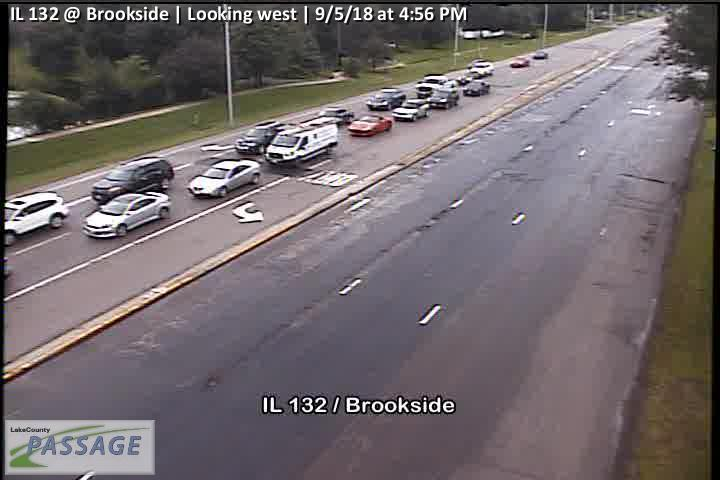Sedan: (77, 191, 171, 237), (88, 156, 174, 201), (3, 190, 71, 246), (185, 157, 261, 198), (231, 119, 287, 156), (345, 113, 394, 137), (311, 104, 353, 128), (365, 86, 406, 110), (392, 98, 430, 123), (423, 88, 462, 108), (462, 80, 492, 95)
Truck: (264, 118, 340, 170)
